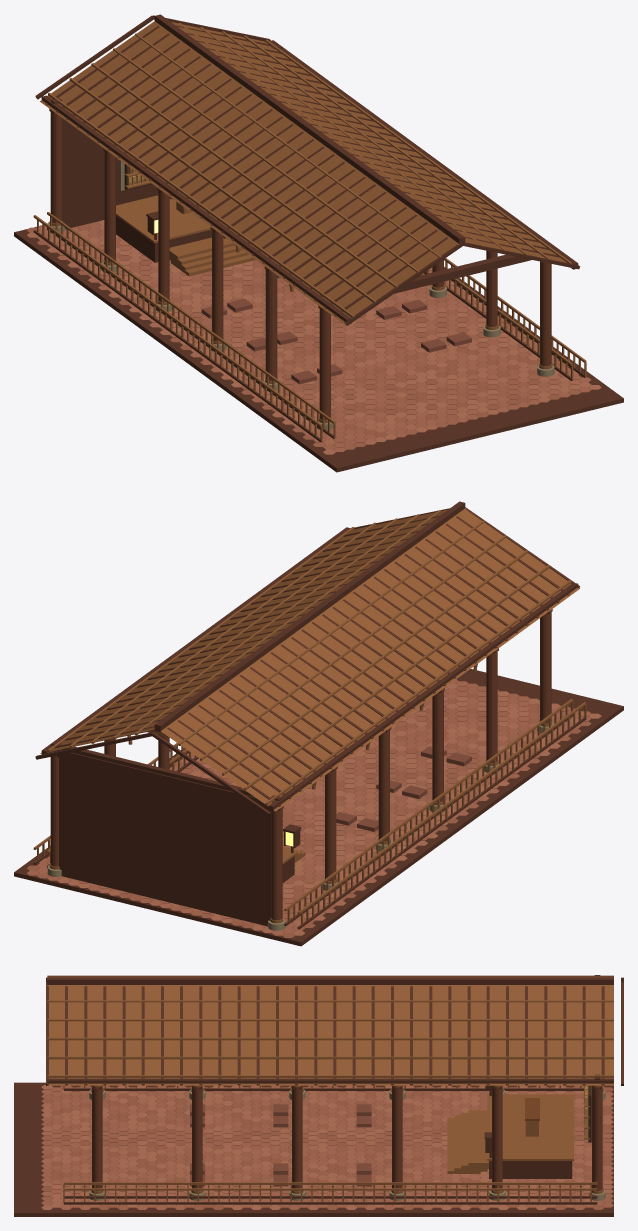
Rendered from giang-duong-phat-phap.glb.
3 renders of one model, top to bottom at view 1: azimuth 30°, elevation 25°; view 2: azimuth 150°, elevation 25°; view 3: azimuth 270°, elevation 25°, orthographic. The views are drawn at different scales.
Parts seen in each view (by area): view 1: Sàn gạch lục giác, Mặt trong mái, Nền sàn, Mặt trong mái.001, Tường hậu, Đòn nóc, Xà mái dọc, Mặt bục, Xà ngang, Xà mái dọc.001, Li tô mái.004, Li tô mái.003 (+23 smaller); view 2: Mặt trong mái, Tường hậu, Sàn gạch lục giác, Mặt trong mái.001, Nền sàn, Đòn nóc, Xà mái dọc, Xà ngang.005, Xà mái dọc.001, Li tô mái.004, Li tô mái.003, Cột gỗ.010 (+18 smaller); view 3: Sàn gạch lục giác, Mặt trong mái.001, Nền sàn, Đòn nóc, Mặt bục, Xà mái dọc.001, Li tô mái.007, Li tô mái.008, Li tô mái.009, Li tô mái.005, Li tô mái.006, Gờ chân lan can.003 (+38 smaller).
Part boxes in pixels (bbox=[...]): Sàn gạch lục giác: bbox=[27, 220, 601, 454]; Mặt trong mái: bbox=[40, 21, 458, 324]; Nền sàn: bbox=[14, 222, 623, 472]; Mặt trong mái.001: bbox=[171, 22, 566, 262]; Tường hậu: bbox=[51, 44, 282, 229]; Đòn nóc: bbox=[154, 14, 465, 243]; Xà mái dọc: bbox=[41, 95, 351, 323]; Mặt bục: bbox=[116, 195, 210, 243]; Xà ngang: bbox=[318, 254, 531, 310]; Xà mái dọc.001: bbox=[269, 40, 578, 269]; Li tô mái.004: bbox=[48, 93, 354, 317]; Li tô mái.003: bbox=[69, 78, 376, 302]; Mặt trong mái: bbox=[161, 508, 579, 811]; Tường hậu: bbox=[51, 741, 282, 926]; Sàn gạch lục giác: bbox=[27, 679, 601, 937]; Mặt trong mái.001: bbox=[40, 509, 447, 753]; Nền sàn: bbox=[14, 669, 623, 946]; Đòn nóc: bbox=[154, 501, 465, 731]; Xà mái dọc: bbox=[268, 582, 578, 811]; Xà ngang.005: bbox=[57, 749, 283, 810]; Xà mái dọc.001: bbox=[41, 527, 350, 754]; Li tô mái.004: bbox=[265, 580, 571, 805]; Li tô mái.003: bbox=[243, 565, 550, 790]; Cột gỗ.010: bbox=[271, 808, 282, 920]; Sàn gạch lục giác: bbox=[41, 1085, 613, 1209]; Mặt trong mái.001: bbox=[47, 985, 613, 1085]; Nền sàn: bbox=[14, 1082, 613, 1216]; Đòn nóc: bbox=[47, 977, 613, 984]; Mặt bục: bbox=[487, 1094, 573, 1160]; Xà mái dọc.001: bbox=[47, 1078, 613, 1083]; Li tô mái.007: bbox=[47, 1037, 613, 1040]; Li tô mái.008: bbox=[47, 1056, 613, 1059]; Li tô mái.009: bbox=[47, 1075, 613, 1077]; Li tô mái.005: bbox=[47, 1000, 613, 1002]; Li tô mái.006: bbox=[47, 1019, 613, 1021]; Gờ chân lan can.003: bbox=[64, 1202, 597, 1204].
Bounding box in the file's own units: 18.5 × 11.46 × 36.59.
